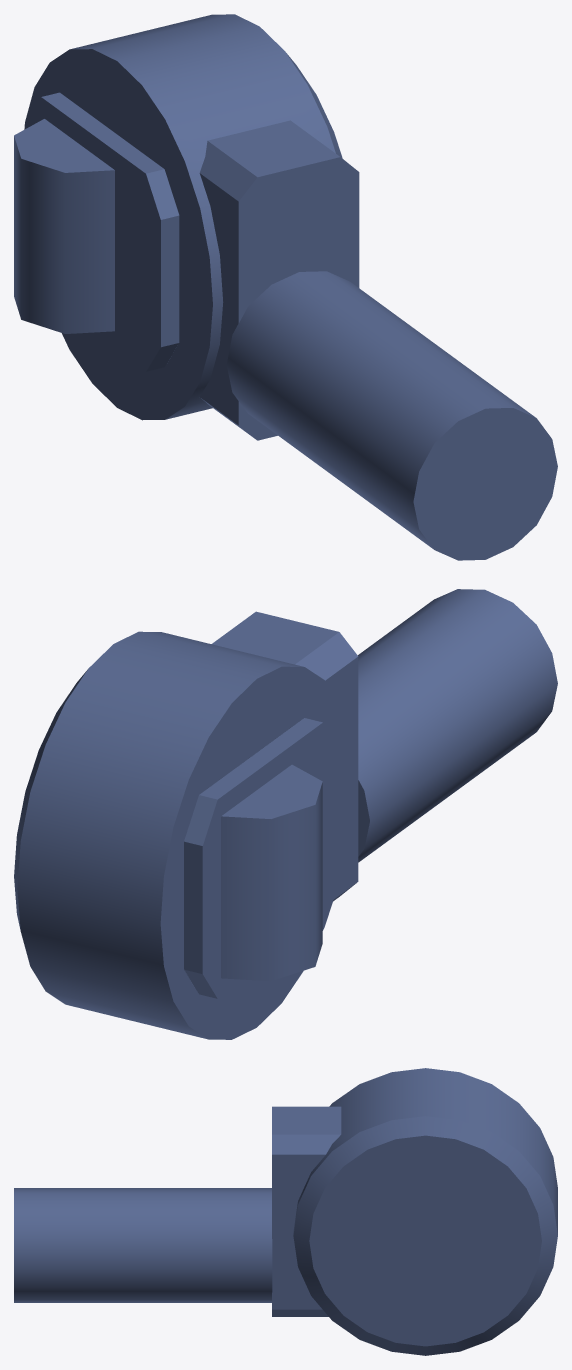
File: Small_mguns_v1_L.FBX
3 views of the same model, one above another, from view 1: azimuth 30°, elevation 25°; view 2: azimuth 150°, elevation 25°; view 3: azimuth 270°, elevation 25° (orthographic). The views are drawn at different scales.
Visible parts, largest first — view 1: Small_mguns_v1_L; view 2: Small_mguns_v1_L; view 3: Small_mguns_v1_L.
Part boxes in pixels (box(x1,y1,x2,y2)): Small_mguns_v1_L: box(14, 14, 557, 560); Small_mguns_v1_L: box(14, 589, 557, 1039); Small_mguns_v1_L: box(14, 1068, 557, 1355).
Bounding box in the file's own units: 0.6221 × 0.8792 × 1.81.
